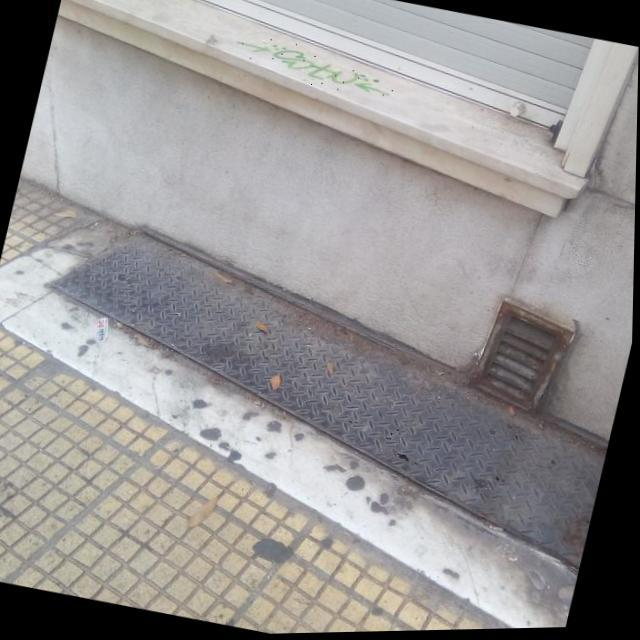-: (229, 31, 399, 104)
